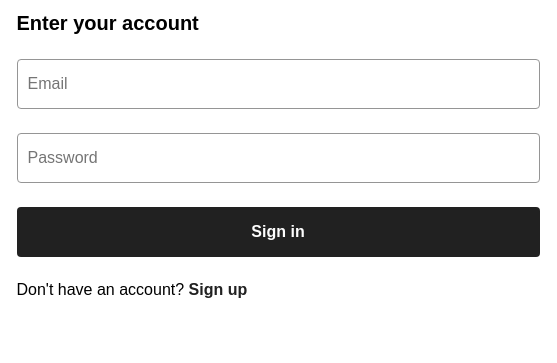
SignInForm › displays error messages for invalid inputs
Click the button "Sign in": [278, 232] box x1=16 y1=207 x2=540 y2=257
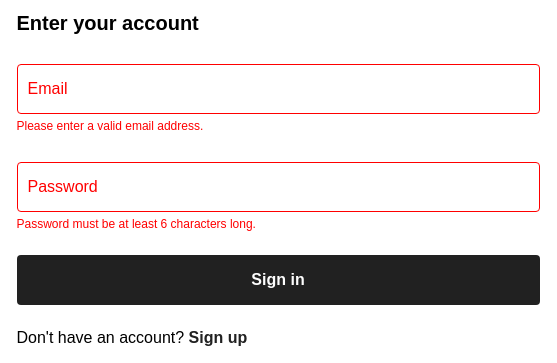
Check: the text "Please enter a valid email address." is shown, box x1=16 y1=119 x2=203 y2=133
Check: the text "Password must be at least 6 characters long." is shown, box x1=16 y1=217 x2=256 y2=231
